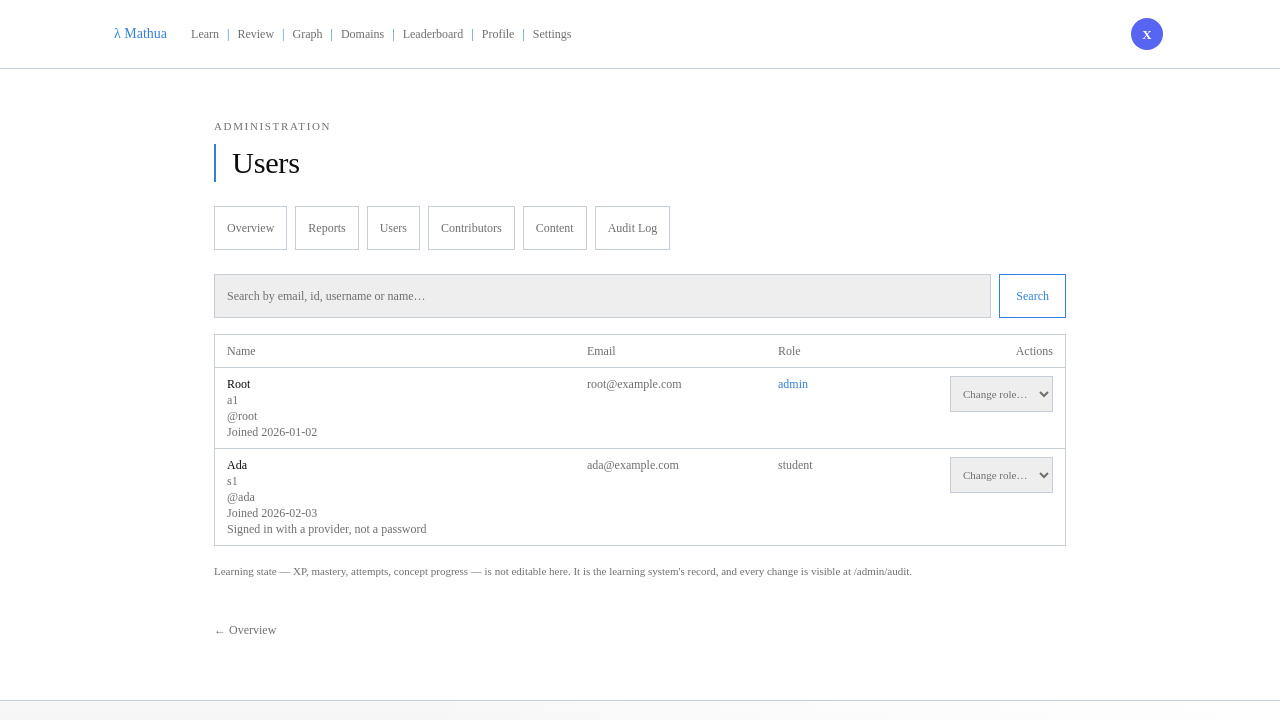
Test: the client offers administration without enforcing it › surfaces a server refusal instead of hiding the control
The image size is (1280, 720).
Expected: the text "root@example.com" is shown, [575, 368, 766, 449]
Select "student" in the dropdown in the row of "a1" at (1002, 394), box [950, 376, 1053, 412]
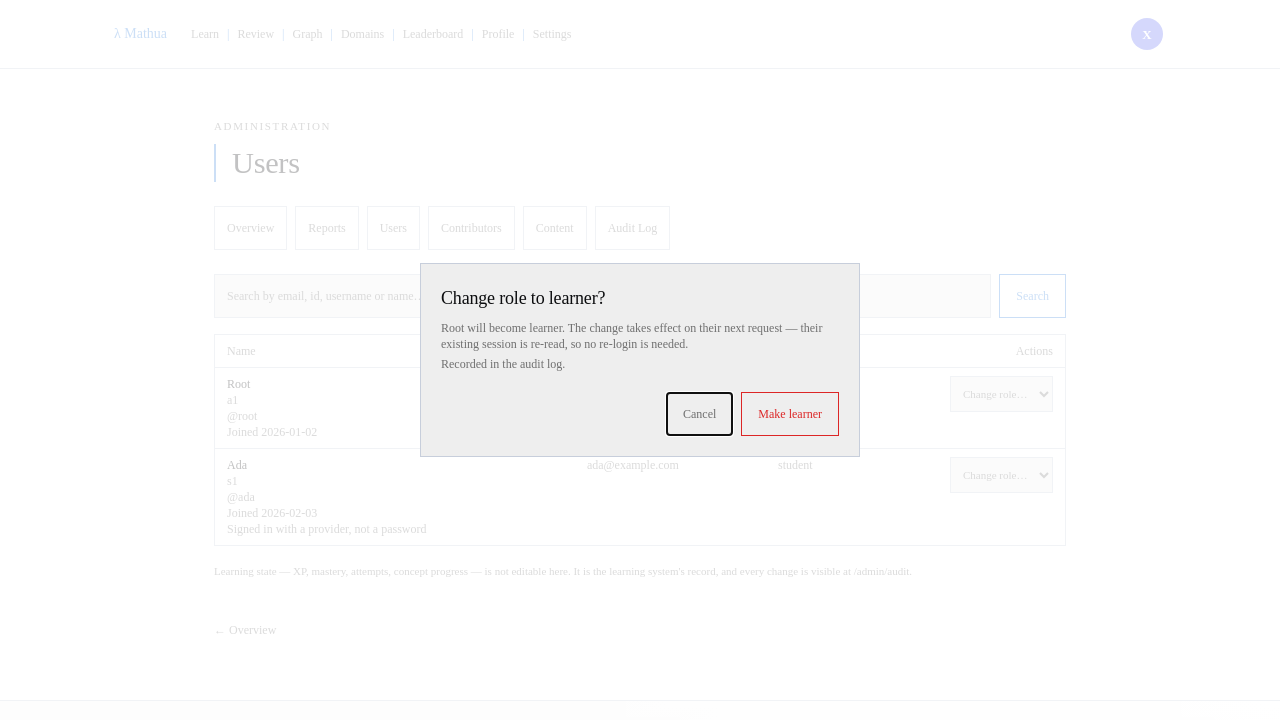
Click the button "Make learner" at (790, 414), box [741, 392, 839, 436]
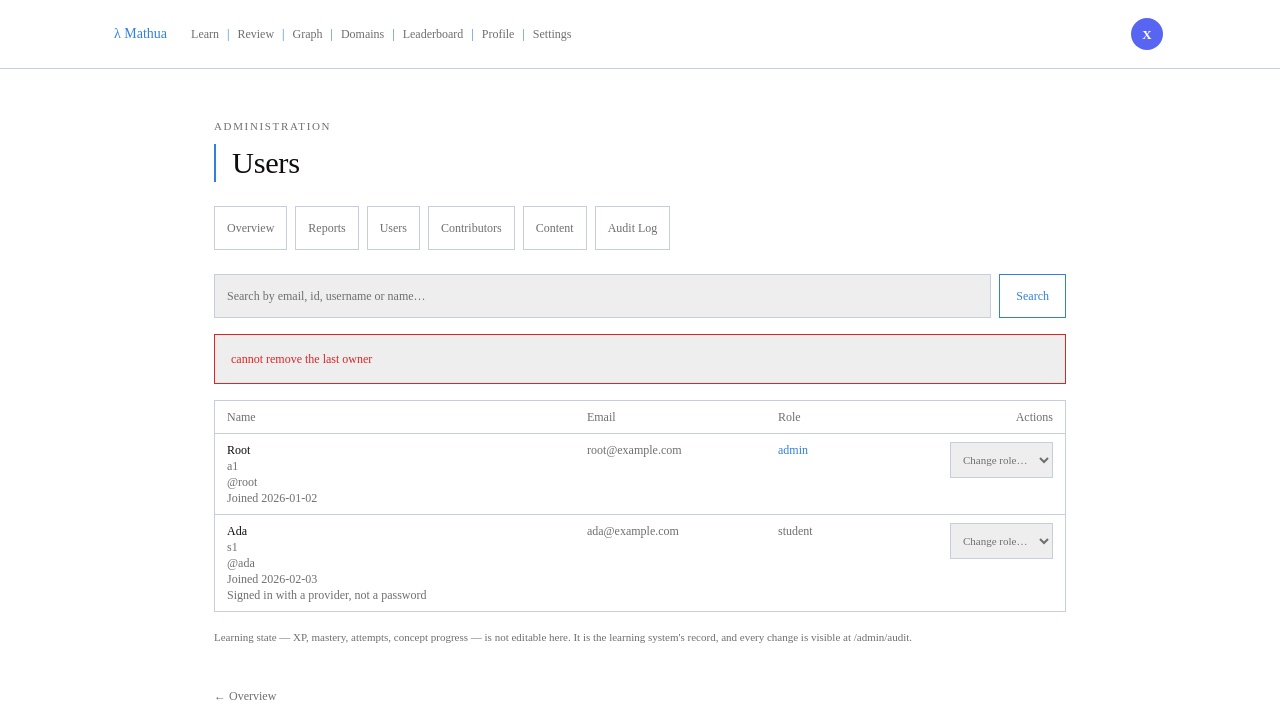
Expected: the message shows "last owner", [231, 352, 372, 366]
